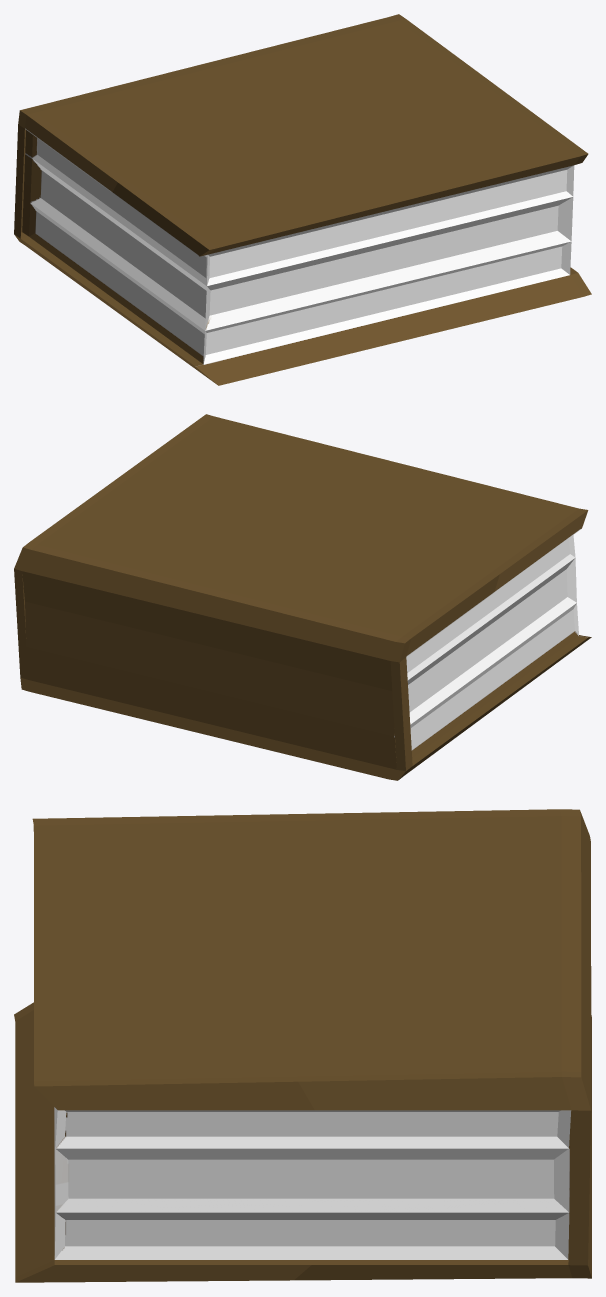
File: BookAsset.fbx
3 renders of one model, top to bottom at view 1: azimuth 30°, elevation 25°; view 2: azimuth 150°, elevation 25°; view 3: azimuth 270°, elevation 25°, orthographic. The views are drawn at different scales.
Visible parts, largest first — view 1: Cube; view 2: Cube; view 3: Cube.
Part boxes in pixels (bbox=[...]): Cube: bbox=[14, 14, 591, 385]; Cube: bbox=[14, 414, 591, 780]; Cube: bbox=[14, 809, 591, 1282].
Bounding box in the file's own units: 100 × 115 × 39.52.
1 material, 1 textured.
